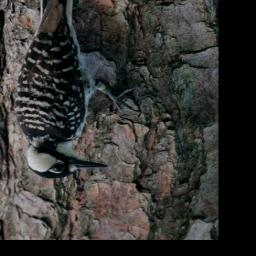Woodpecker: (8, 0, 146, 180)
